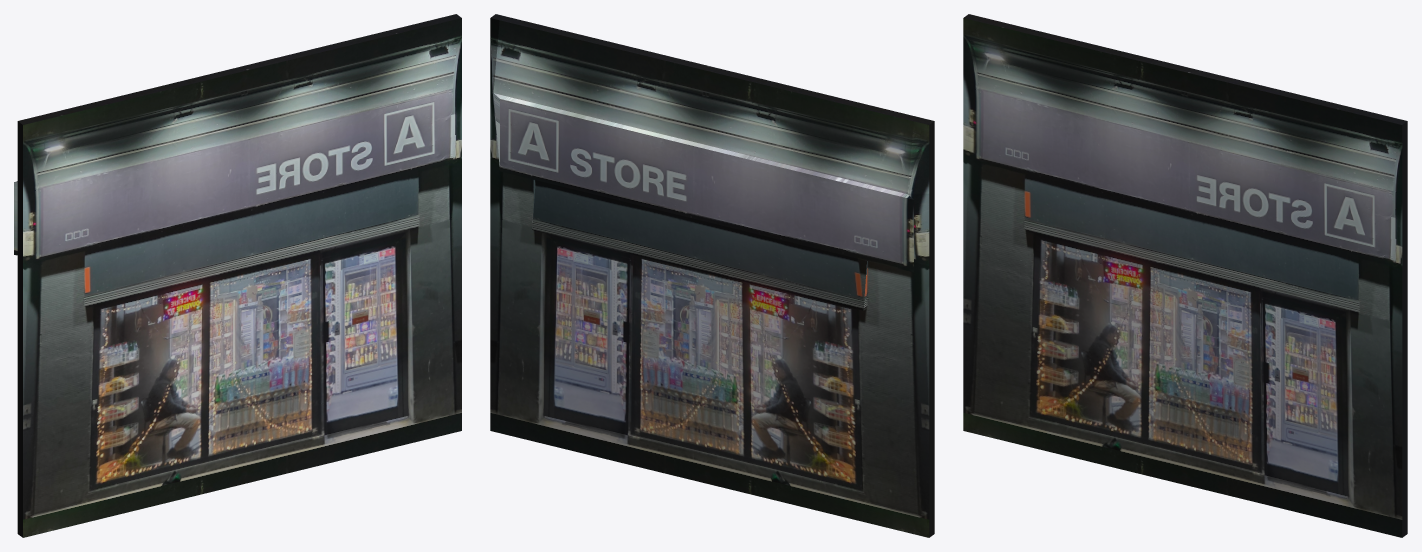
File: Shop6.fbx
3 renders of one model, left to right at view 1: azimuth 30°, elevation 25°; view 2: azimuth 150°, elevation 25°; view 3: azimuth 330°, elevation 25°, orthographic.
Visible parts, largest first — view 1: Cube; view 2: Cube; view 3: Cube.
Boxes of the visible parts, left/top/right/bottom form: Cube: left=14, top=14, right=461, bottom=537; Cube: left=490, top=14, right=934, bottom=537; Cube: left=963, top=14, right=1407, bottom=537.
Bounding box in the file's own units: 4.48 × 0.2617 × 4.03.
Materials: 1 (1 with a texture image).
